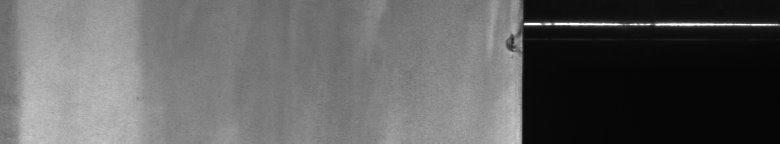hb: (484, 9, 512, 60)
